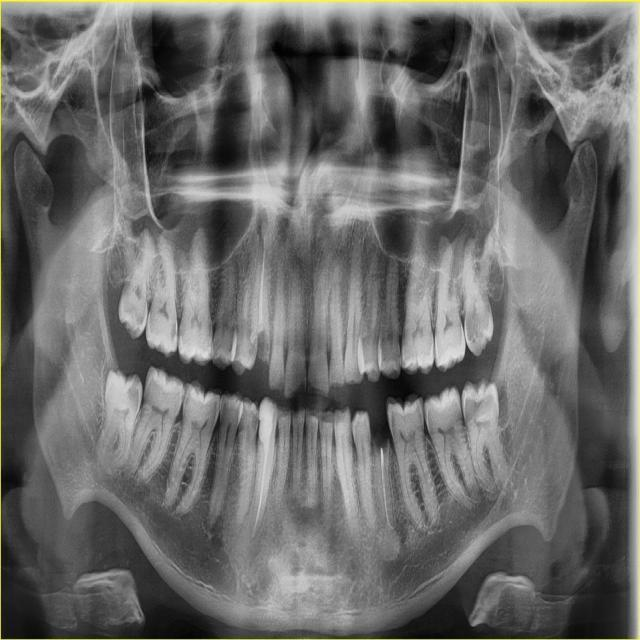74: (252, 453, 269, 537), (377, 447, 394, 529), (258, 235, 265, 332)
Sterngold Implant: (246, 328, 277, 364), (460, 311, 485, 349), (368, 430, 394, 456), (126, 375, 142, 416), (207, 396, 220, 438), (142, 377, 153, 412), (131, 308, 149, 329), (470, 396, 490, 414), (144, 308, 156, 332), (384, 407, 397, 429), (170, 315, 178, 349), (177, 319, 187, 346), (219, 399, 228, 427), (250, 409, 259, 435), (423, 405, 432, 428), (183, 388, 191, 412), (176, 388, 185, 409), (207, 322, 213, 349), (417, 407, 425, 426)
Straumann Implant: (259, 398, 275, 453)
